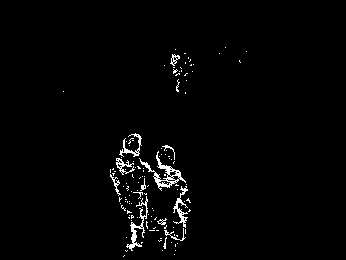person: (106, 130, 153, 256), (153, 144, 192, 256)
